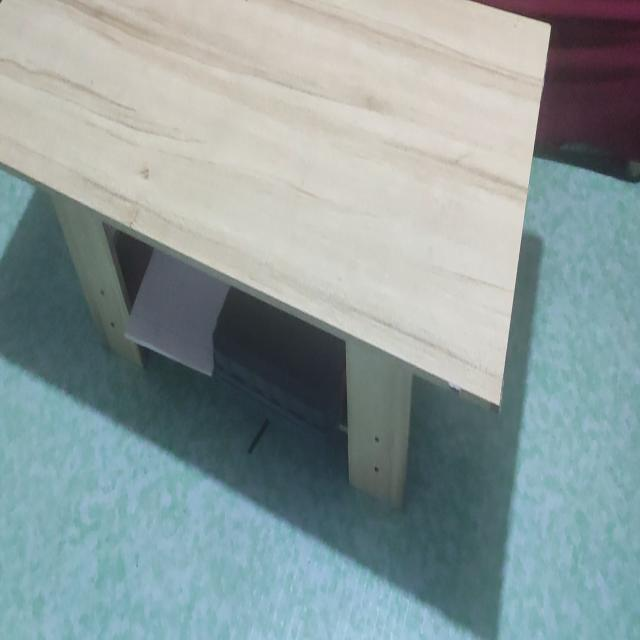table: (0, 0, 554, 528)
